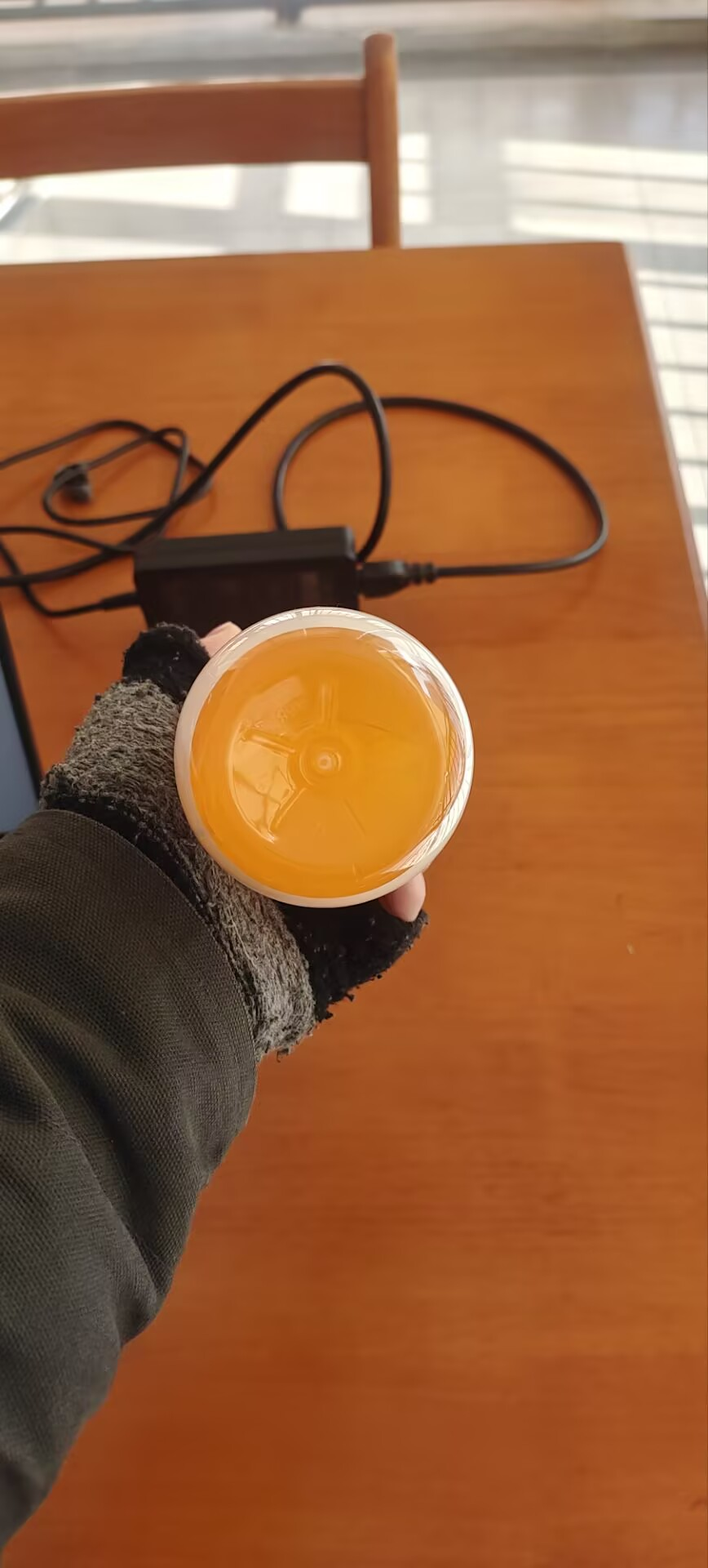redbull: (195, 618, 443, 891)
